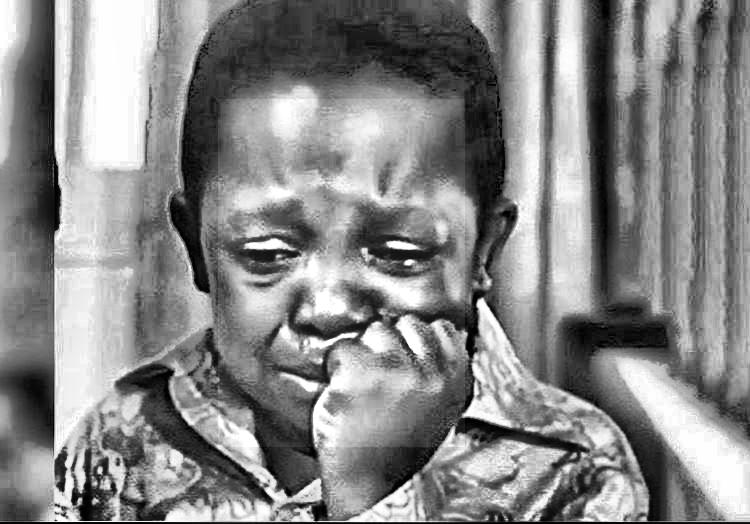sad: (218, 99, 465, 447)
